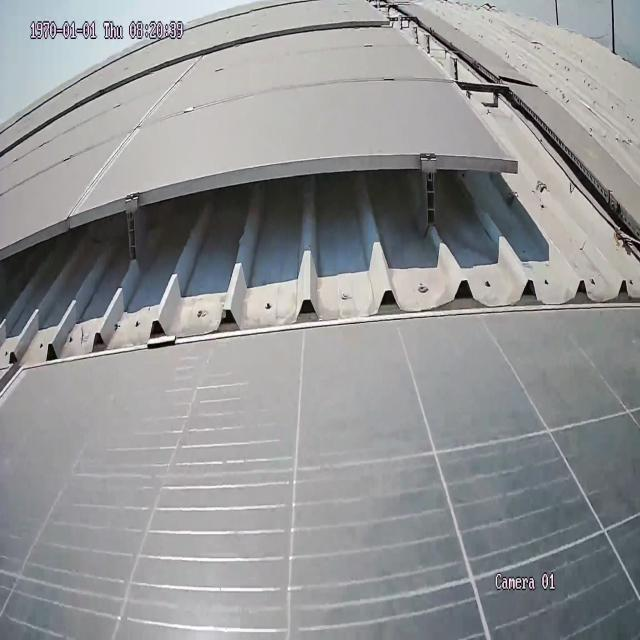interior panel: (69, 62, 198, 207)
outher panel: (1, 0, 640, 374)
